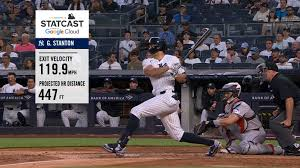baseball bat: (170, 27, 213, 75)
